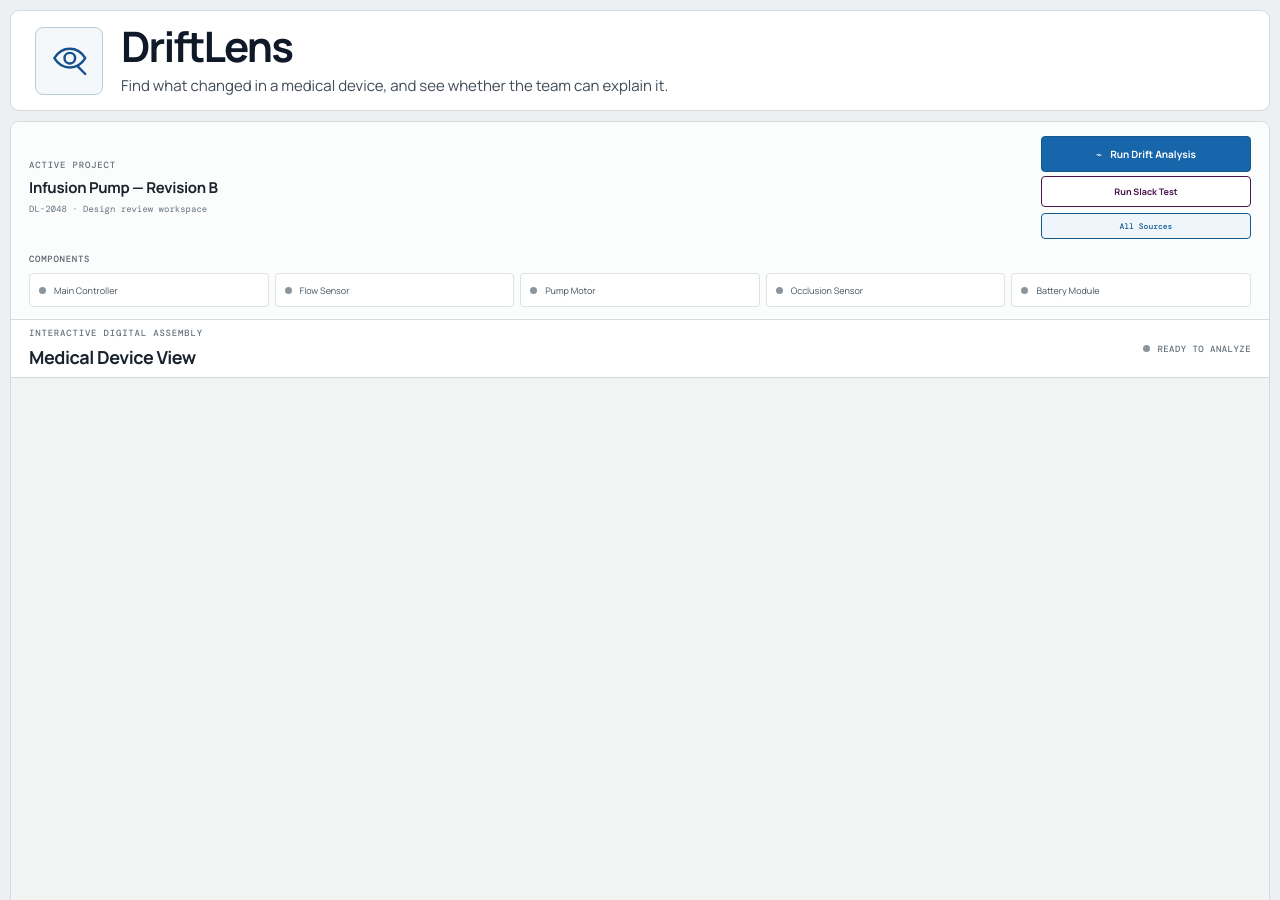
Test: ReviewWorkspace › runs the HydraDB Slack test and opens Battery Module evidence
What coordinates should you click on to do the following:
click the button "Run Slack Test"
I would click on:
 (1146, 192)
Its box is [1041,176,1251,207].
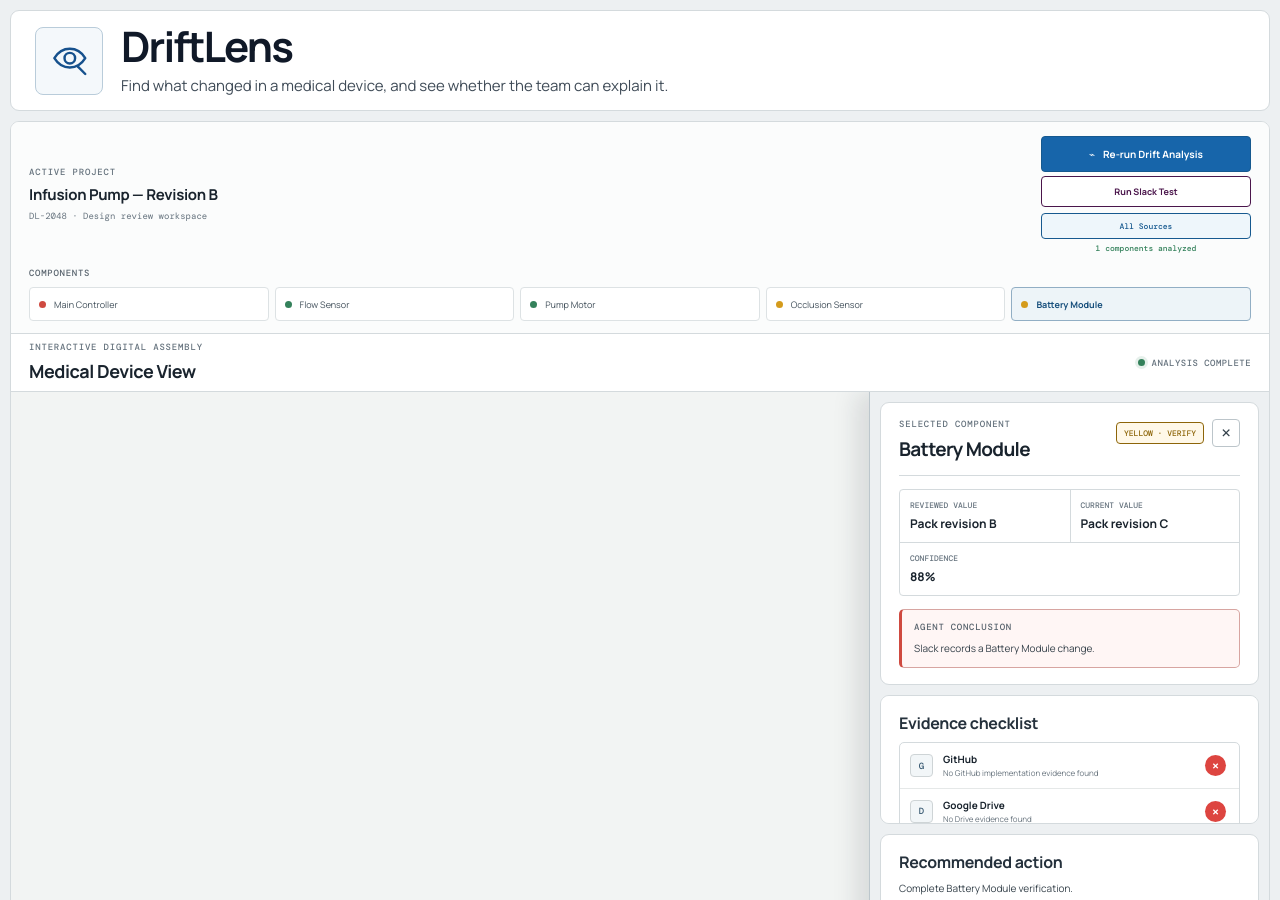
Result: the heading "Battery Module" is shown at [899,436,1030,462]
Result: the text "Pack revision C" is shown at [1080,515,1168,532]
